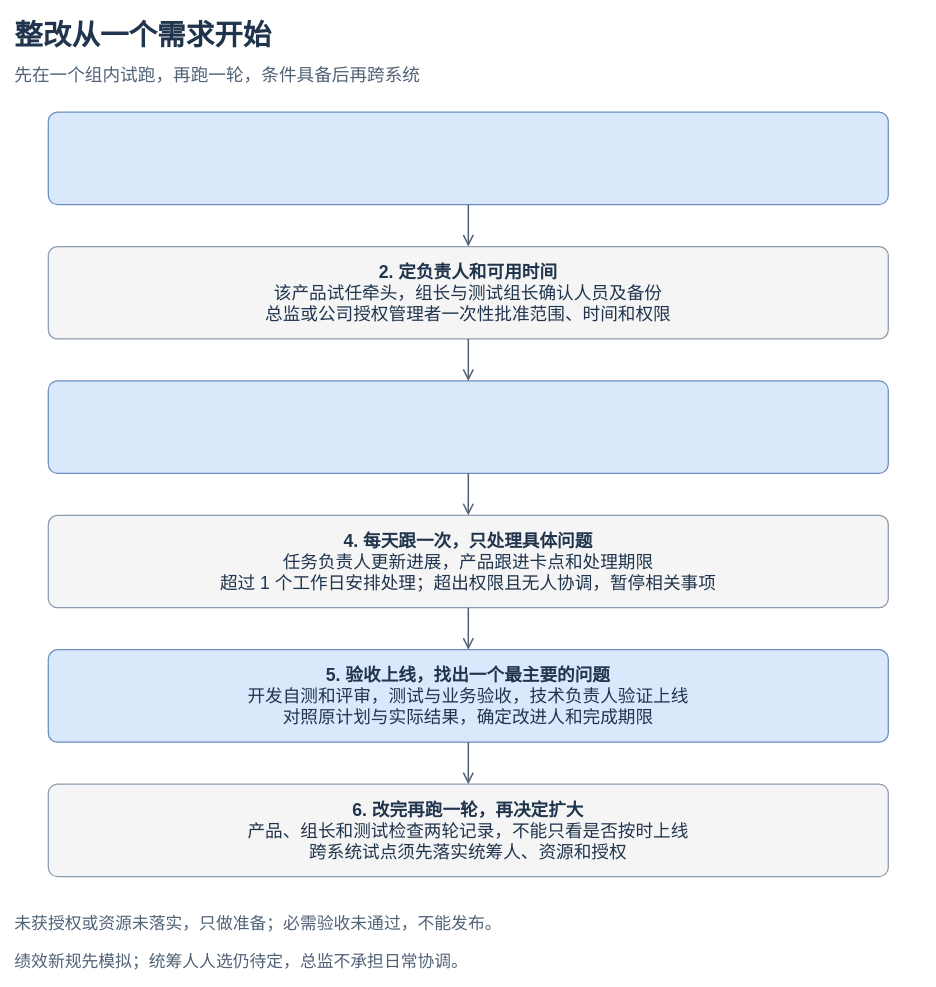
Some shapes in this 936 by 987 pixel diagram are drawn without their labels. Here are the shapes that lost their labels. From the top down, the centre of each, then its label:
At (468,158): "1. 选一个小需求 当前产品经理和组长：选低风险、可独立交付的需求 写清本轮范围，确认现有组内资源能完成".
At (468,427): "3. 查清计划，再定日期 产品写验收示例，组长查估算，测试确认时间 需要架构决定的事项，由架构师给出可执行方案并按风险复核".
